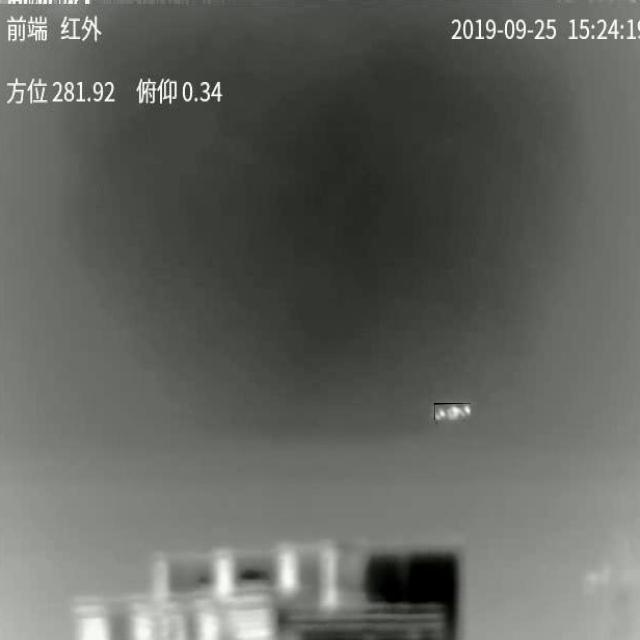drone: (435, 403, 471, 420)
